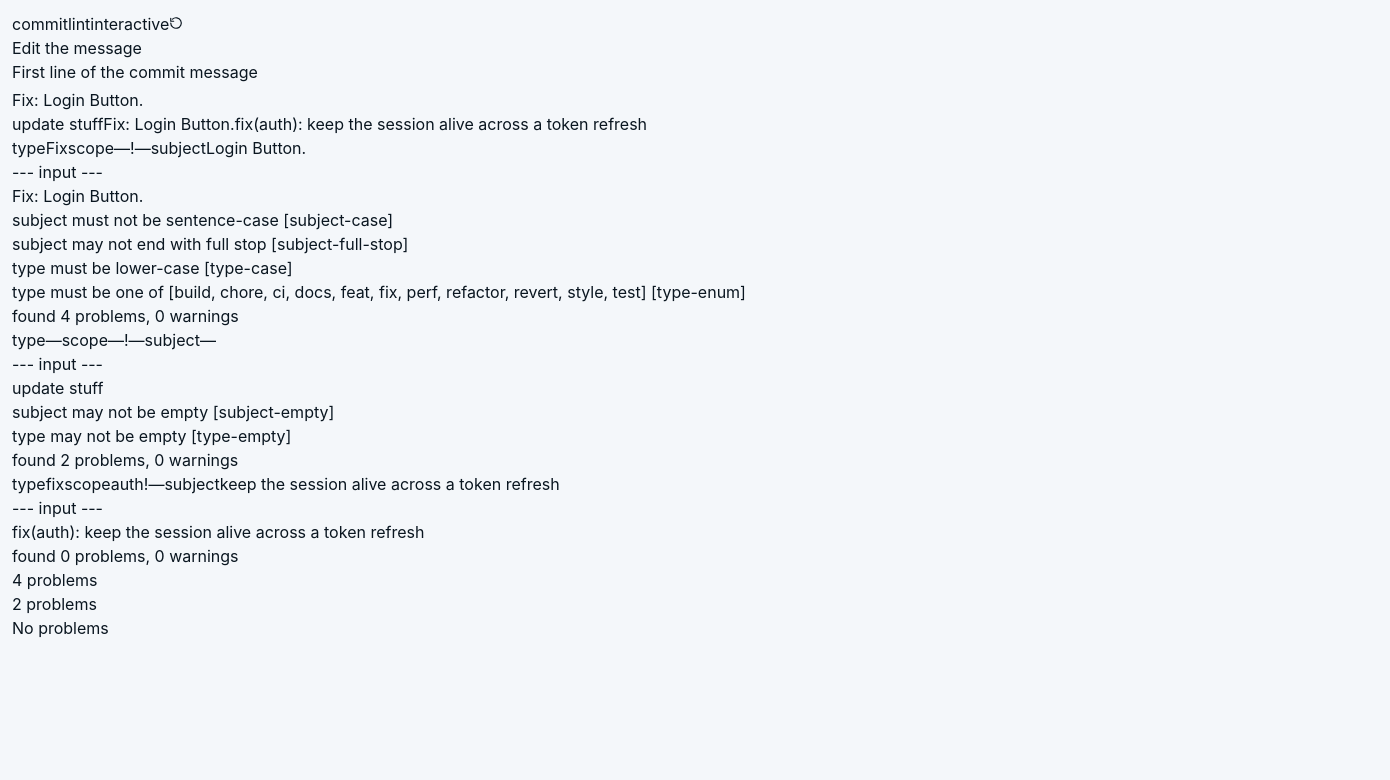
Test case: CommitLint › reset returns to the served preset
Expected: the button named "Reset" is disabled, x1=169 y1=16 x2=183 y2=30
Replace the text in the field labelled "First line of the commit message" with "fix: x" at (695,100), box x1=12 y1=88 x2=1378 y2=112
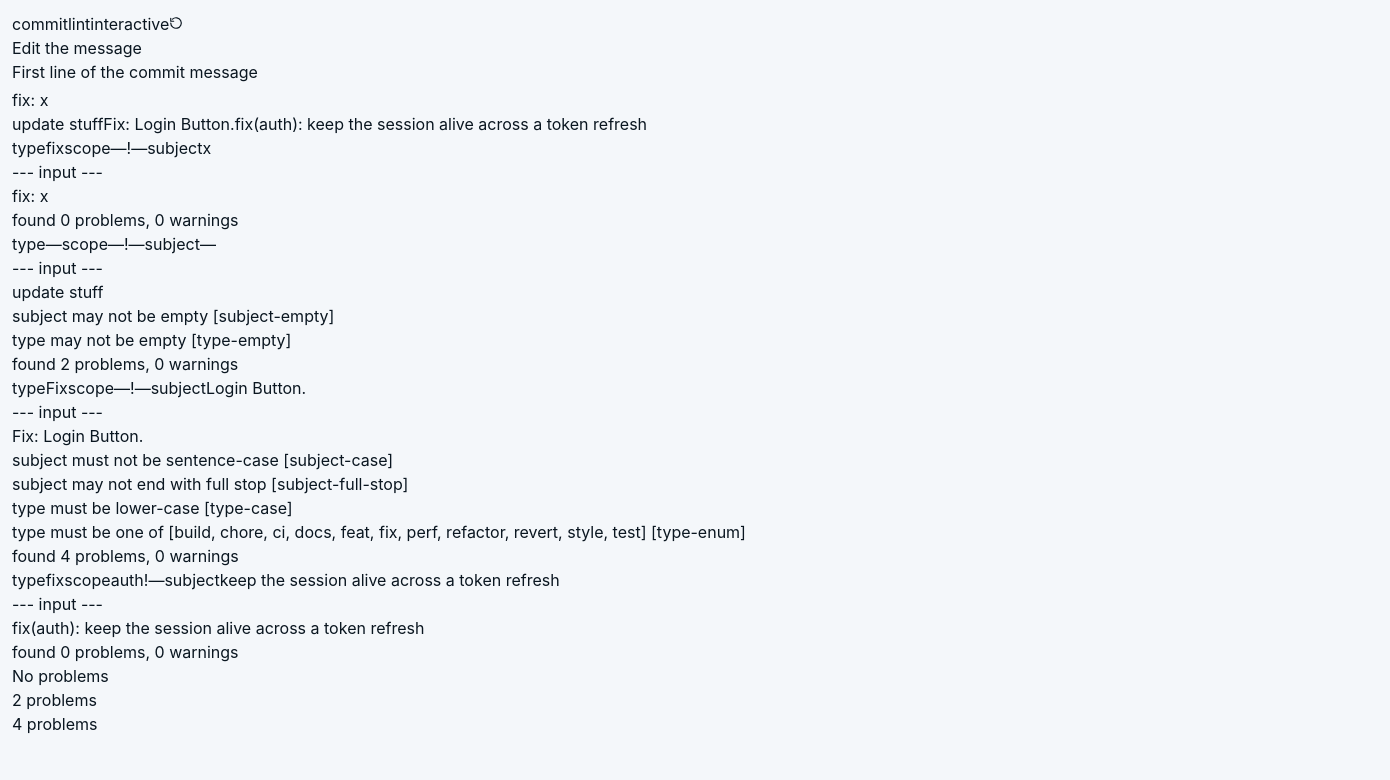
Click the button named "Reset" at (176,23), box x1=169 y1=16 x2=183 y2=30
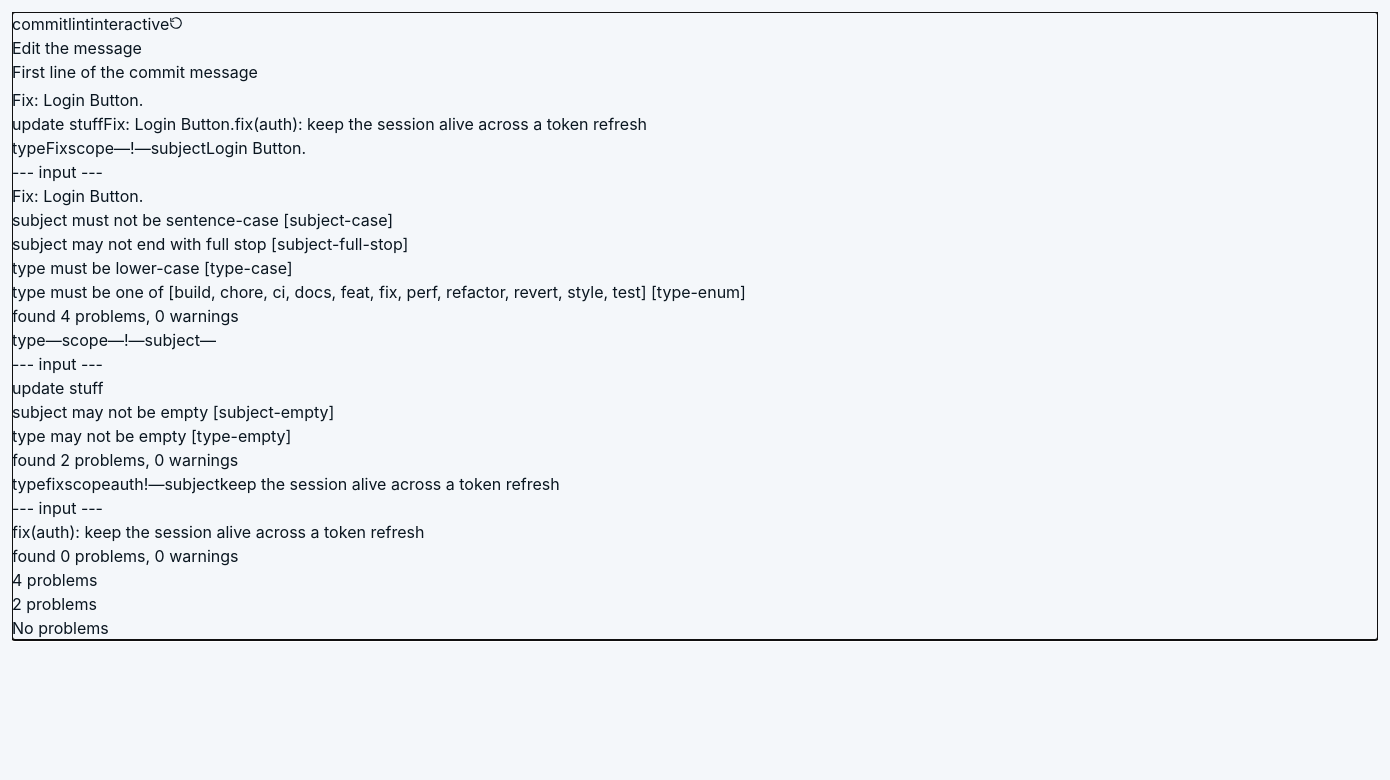
Now the field labelled "First line of the commit message" holds "Fix: Login Button.", box x1=12 y1=88 x2=1378 y2=112
